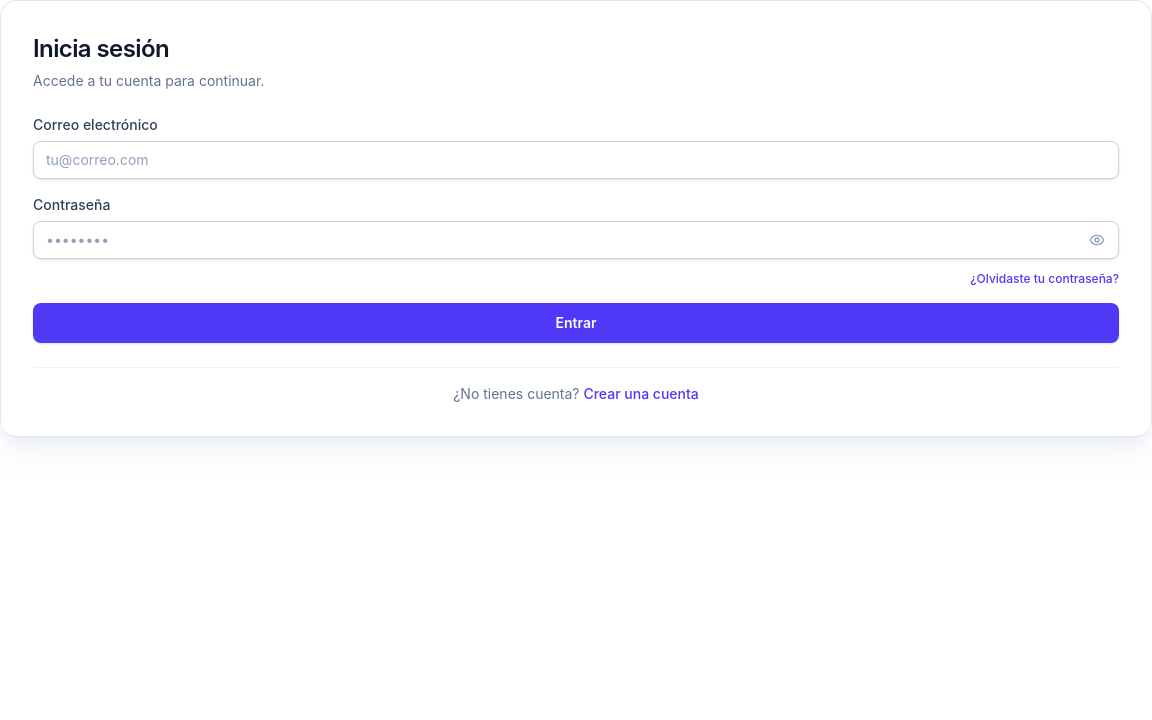
Test case: LoginPage › avisa si el login responde bien pero no hay sesión utilizable
The image size is (1152, 720).
In the field labelled "Correo electrónico": (576, 160) x1=33 y1=141 x2=1119 y2=179, type "ana@example.com"
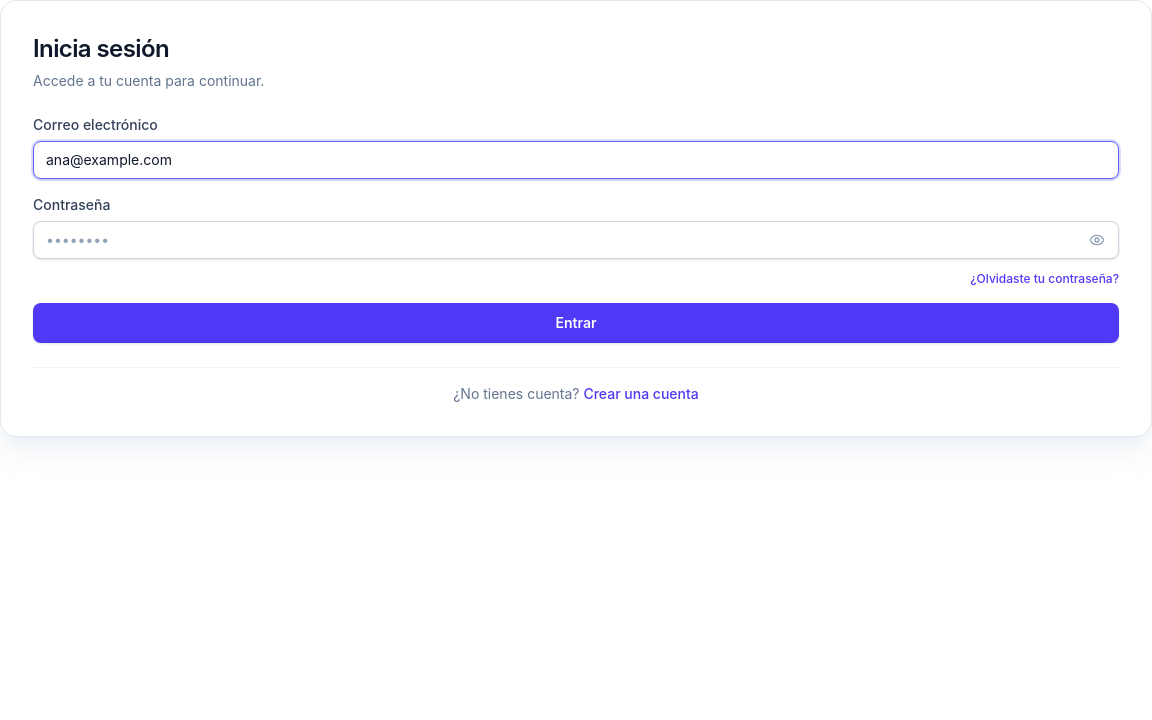
In the password field labelled "Contraseña": (576, 240) x1=33 y1=221 x2=1119 y2=259, type "SuperSecret123!"
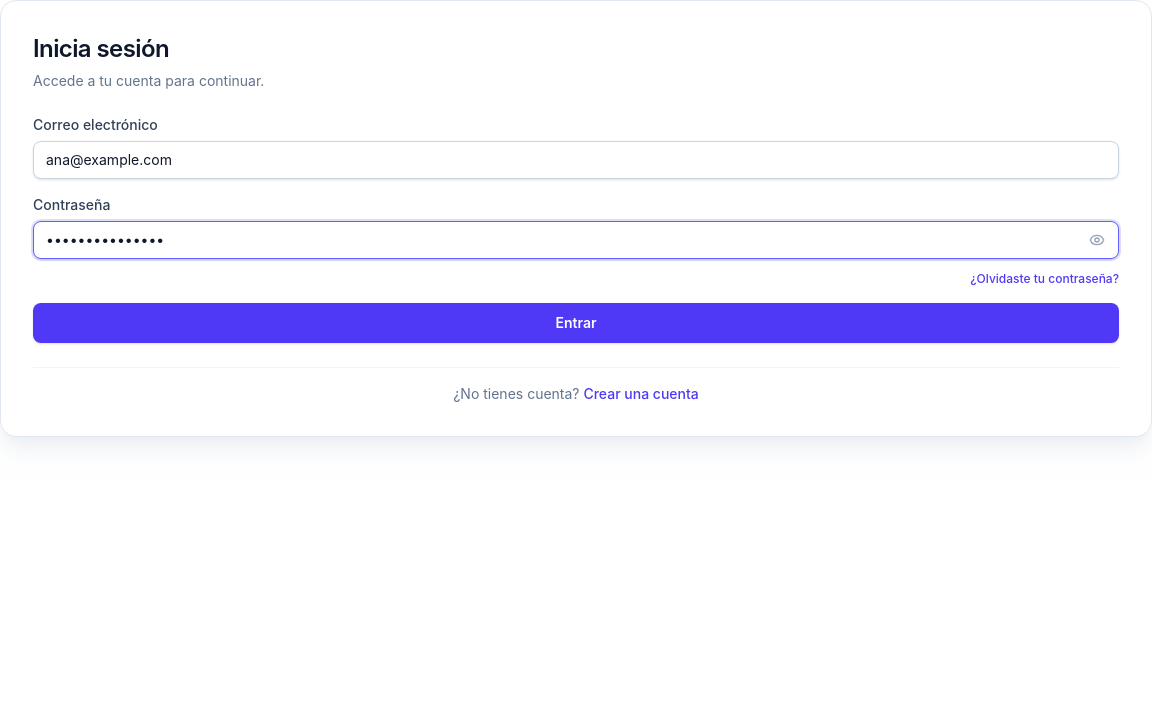
Click the button "Entrar": (576, 323) x1=33 y1=303 x2=1119 y2=343
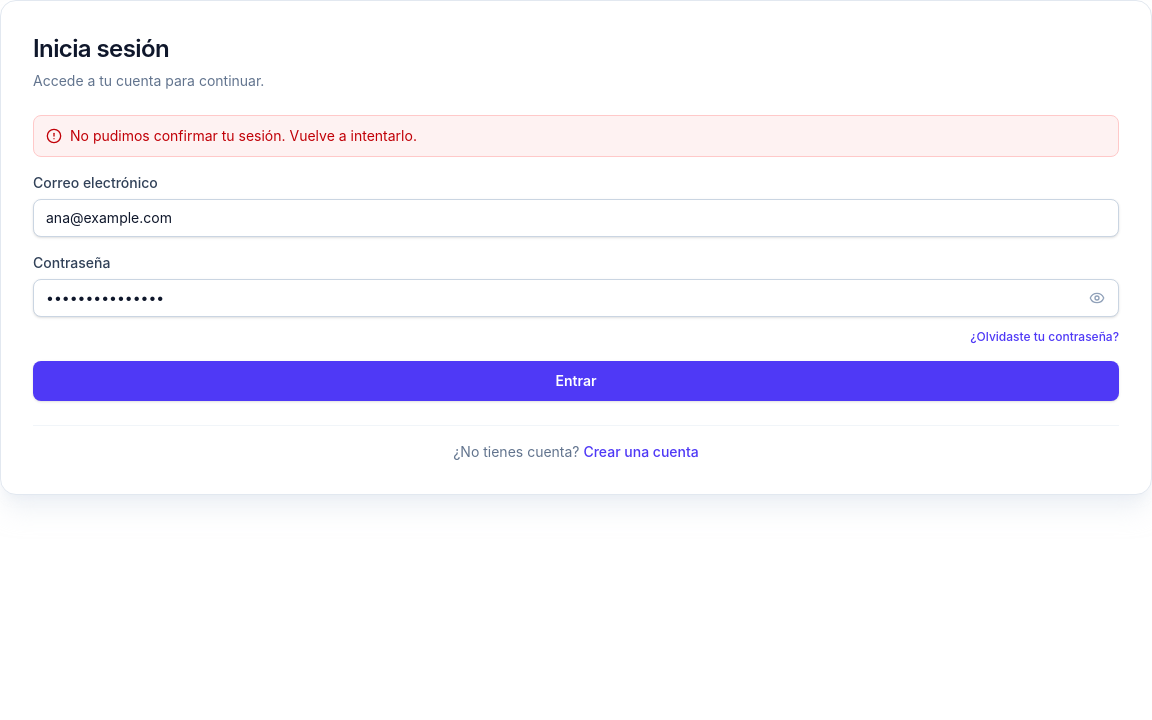
Now the text "No pudimos confirmar tu sesión. Vuelve a intentarlo." is shown, box x1=70 y1=126 x2=417 y2=146
